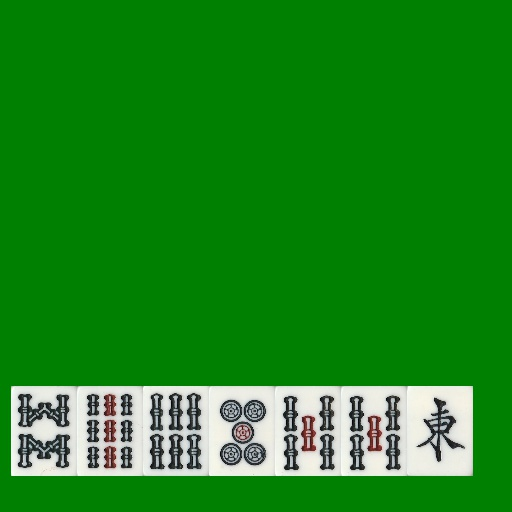5p: (209, 386, 275, 476)
5s: (275, 386, 341, 476), (341, 386, 407, 476)
6s: (143, 386, 209, 476)
8s: (11, 386, 77, 476)
9s: (77, 386, 143, 476)
east: (407, 386, 473, 476)
